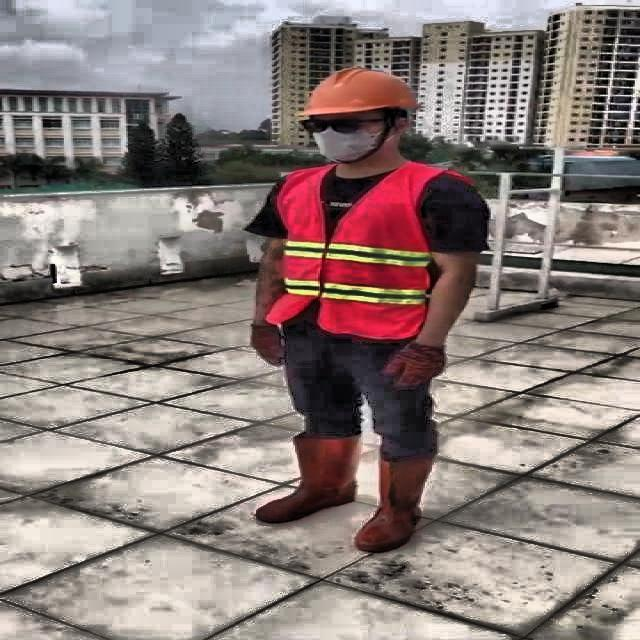safety_helmet: (300, 66, 416, 118)
safety_jacket: (266, 164, 442, 340)
